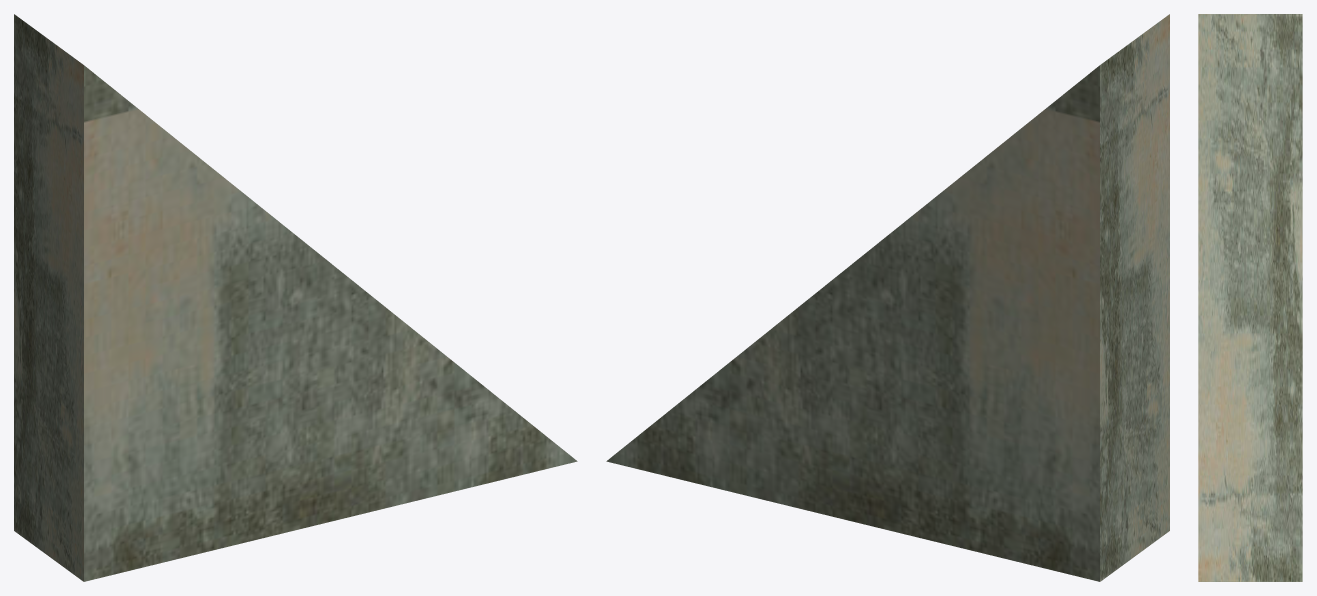
File: triangle_concrete.glb
3 renders of one model, left to right at view 1: azimuth 30°, elevation 25°; view 2: azimuth 150°, elevation 25°; view 3: azimuth 270°, elevation 25°, orthographic. The views are drawn at different scales.
Visible parts, largest first — view 1: triangle; view 2: triangle; view 3: triangle.
Boxes of the visible parts, x1,y1,x2,y2 form: triangle: (14, 14, 577, 581); triangle: (606, 14, 1169, 581); triangle: (1198, 14, 1302, 581).
Size of the model in its own units: 0.9 by 0.9 by 0.22.
1 material, 1 textured.
